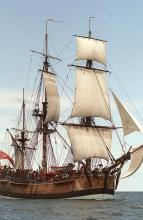fanchuan: (3, 22, 136, 200)
